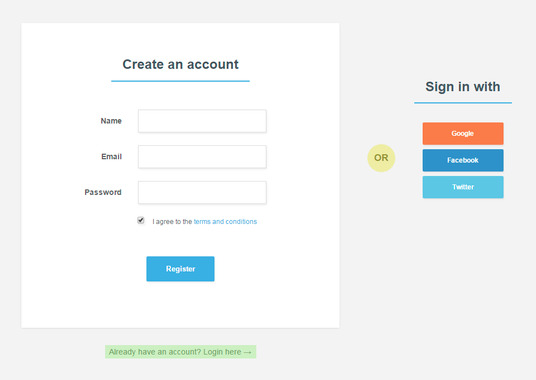_form_: (1, 1, 311, 313), (326, 1, 536, 230)
button: (420, 120, 506, 147), (421, 174, 505, 201), (144, 254, 216, 284), (422, 148, 505, 172)
checkbox: (136, 215, 145, 224)
checkbox_with_label: (133, 212, 256, 226)
field: (134, 179, 268, 206), (135, 107, 268, 134), (135, 143, 267, 170)
field_with_label: (85, 177, 269, 208), (101, 141, 269, 172), (100, 105, 270, 135)
